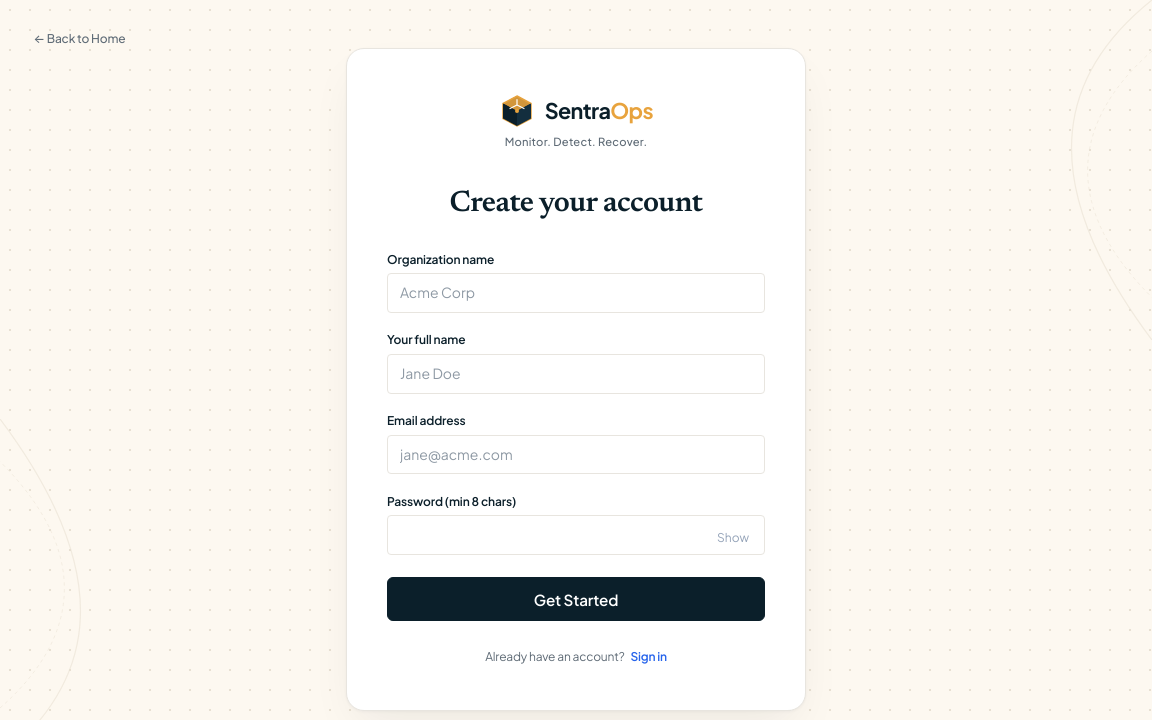
Test: Authentication Flows & Session Hydration › Registration Flow › allows a user to register and redirects to protected root
Expected: the heading "Create your account" is shown, [450, 189, 702, 219]
In the field labelled "Organization name": (576, 293) [387, 273, 765, 313], type "Acme Inc"
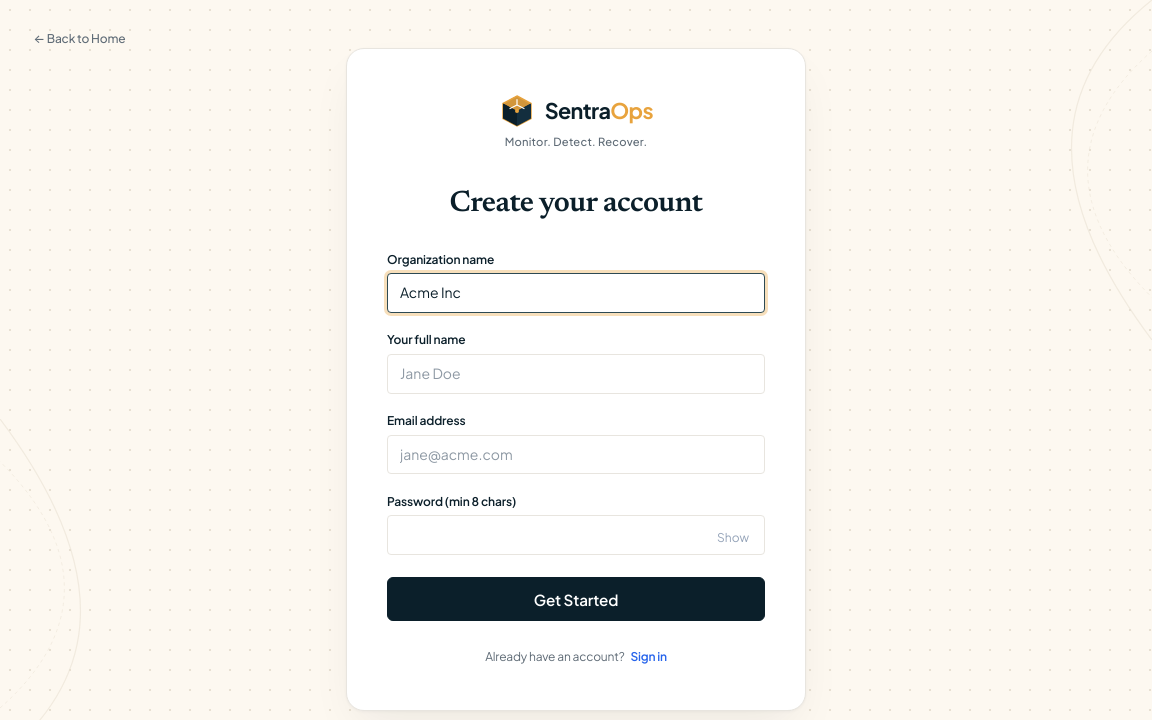
In the field labelled "Your full name": (576, 374) [387, 354, 765, 394], type "John Doe"
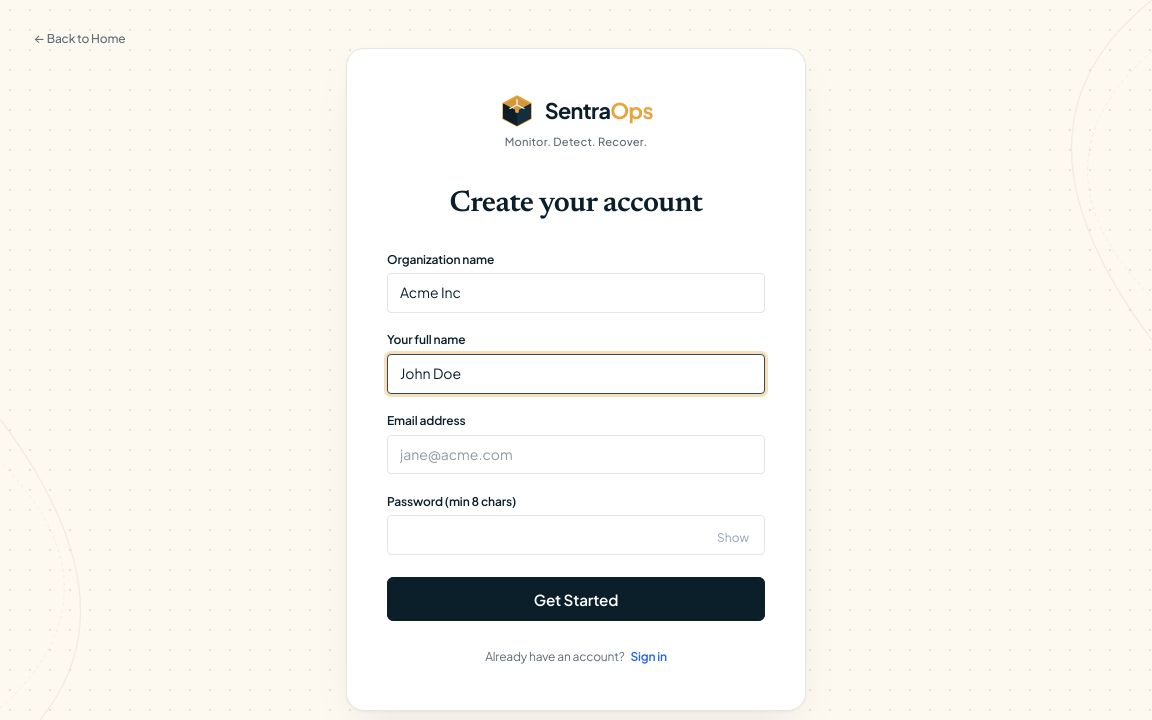
In the field labelled "Email address": (576, 454) [387, 434, 765, 474], type "john@acme.com"
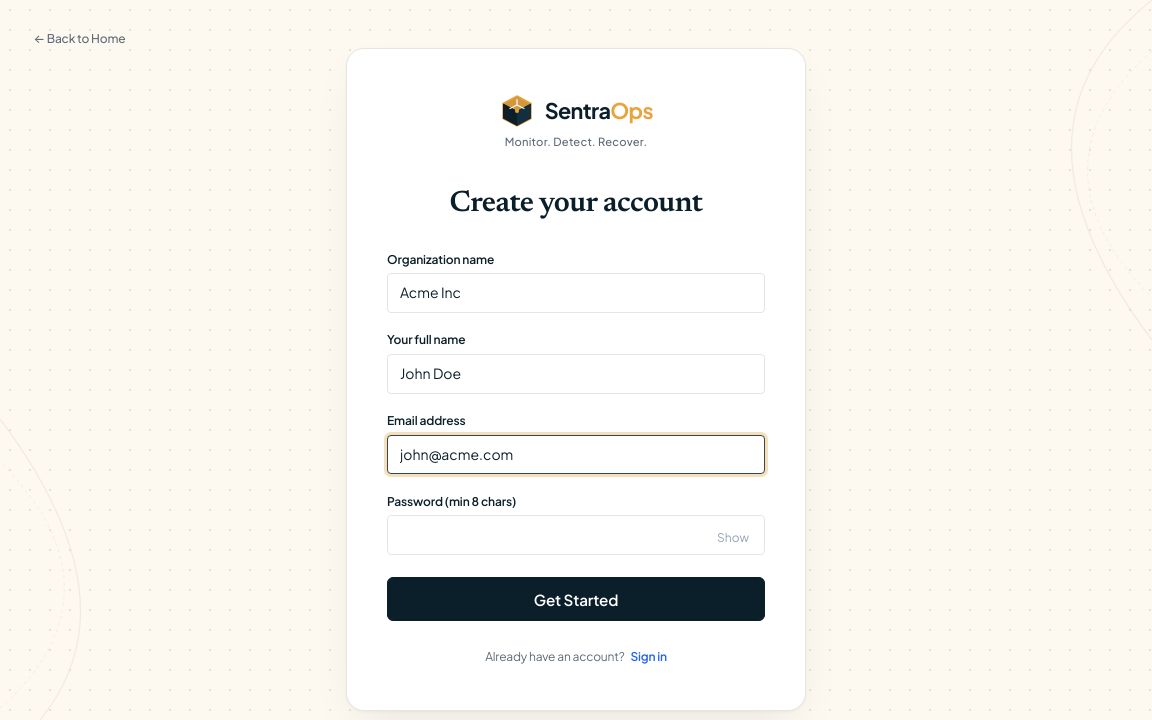
In the password field labelled "Password (min 8 chars)": (576, 535) [387, 515, 765, 555], type "Password123!"
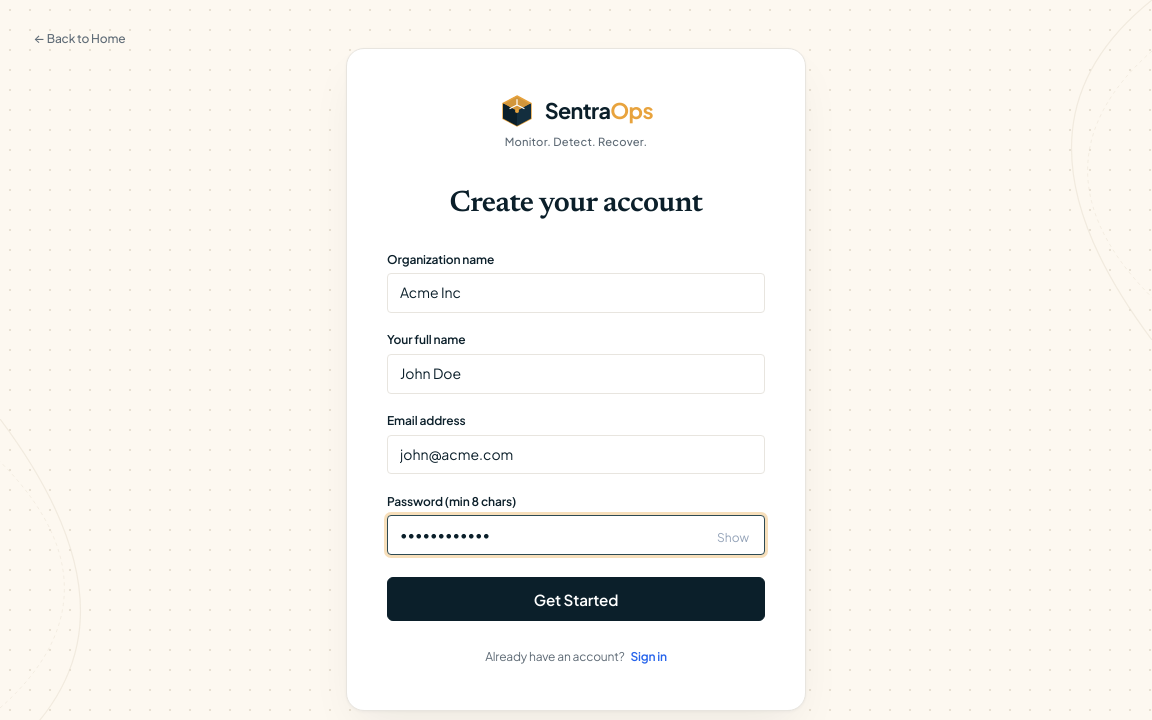
Click the button "Get Started": (576, 599) [387, 577, 765, 621]
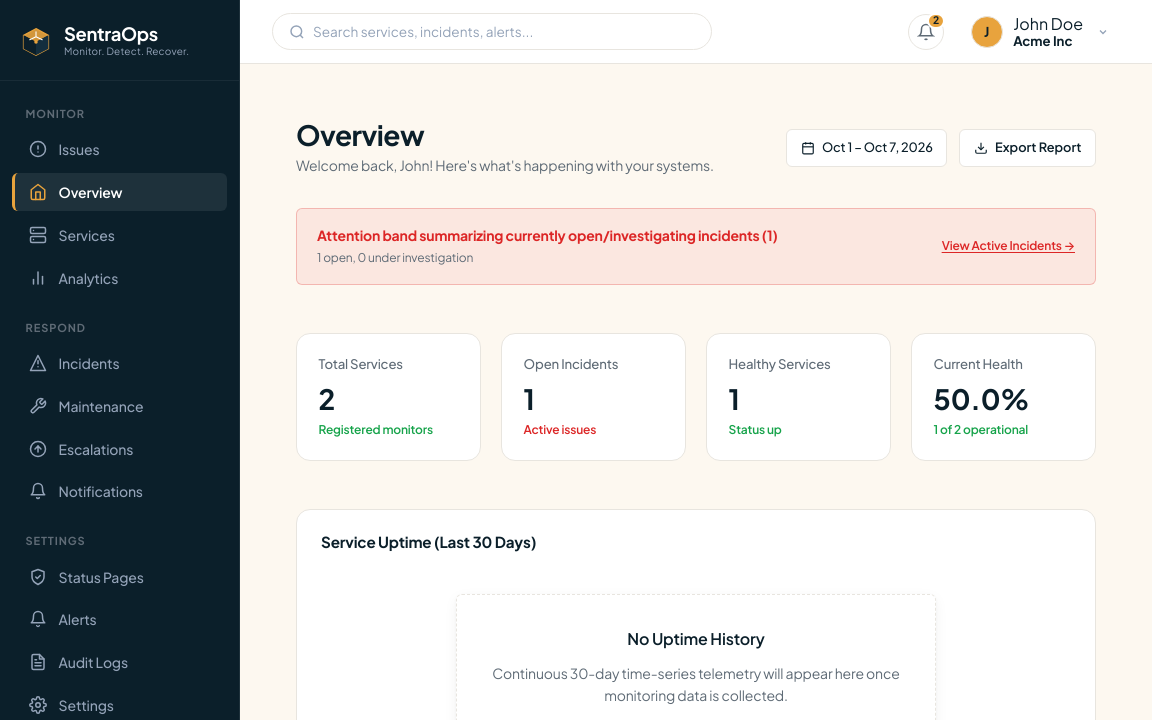
Expected: the heading "Overview" is shown, [296, 117, 424, 152]
